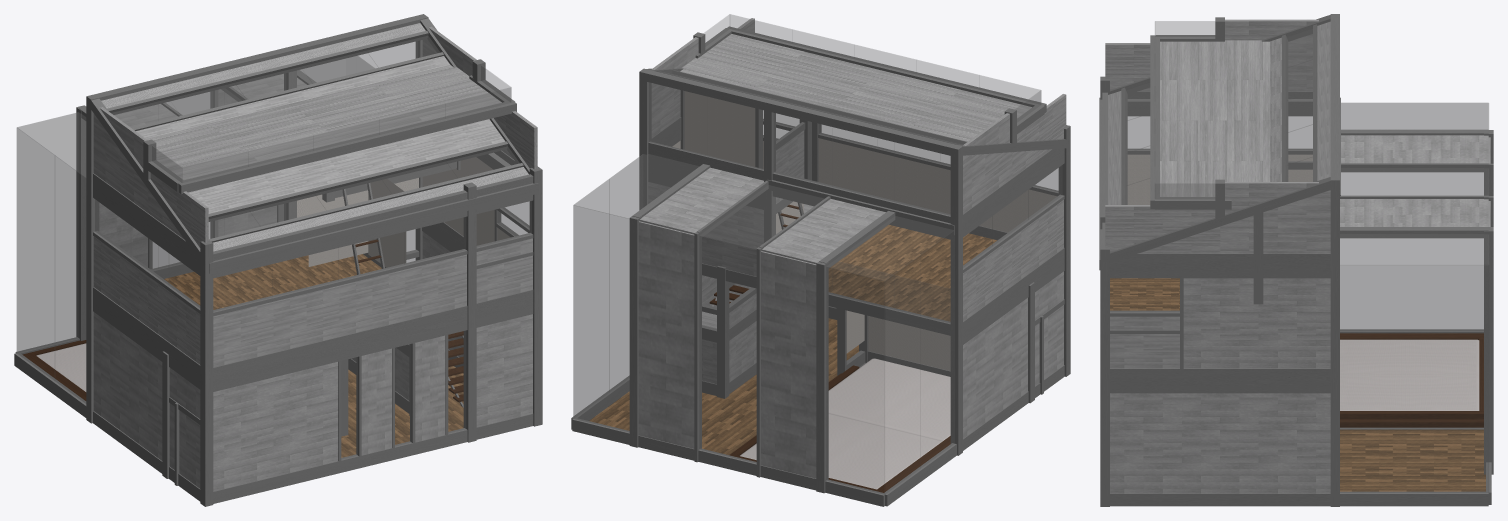
3 views of the same model, side by side, from view 1: azimuth 30°, elevation 25°; view 2: azimuth 150°, elevation 25°; view 3: azimuth 270°, elevation 25° (orthographic). The views are drawn at different scales.
Parts seen in each view (by area): view 1: 2f, 1f, pillar, stairwell, 3f, roof_floor, roof_top_1, roof, 1f_grass, roof_top_2, roof_top_3, roof_hasira_1 (+12 smaller); view 2: stairwell, 2f, pillar, 3f, 1f, roof_floor, bed_cushion (2), bed_cushion (1), roof, Quad, roof_hasira_2, 1f_wall_25 (1) (+1 smaller); view 3: stairwell, 1f, 2f, pillar, 3f, roof_floor, bed_cushion (1), Quad, roof_top_2, roof, roof_top_1, roof_top_grass_2 (+8 smaller).
Part boxes in pixels (bbox=[...]): 2f: bbox=[93, 152, 538, 391]; 1f: bbox=[14, 232, 533, 503]; pillar: bbox=[76, 14, 542, 506]; stairwell: bbox=[16, 56, 414, 403]; 3f: bbox=[93, 26, 537, 278]; roof_floor: bbox=[146, 64, 501, 180]; roof_top_1: bbox=[136, 56, 505, 213]; roof: bbox=[152, 65, 511, 182]; 1f_grass: bbox=[341, 331, 465, 458]; roof_top_2: bbox=[101, 23, 425, 108]; roof_top_3: bbox=[213, 167, 528, 251]; roof_hasira_1: bbox=[107, 30, 428, 114]; stairwell: bbox=[573, 154, 954, 494]; 2f: bbox=[648, 110, 1064, 344]; pillar: bbox=[629, 26, 1070, 493]; 3f: bbox=[648, 18, 1066, 239]; 1f: bbox=[571, 271, 1064, 506]; roof_floor: bbox=[680, 34, 1031, 141]; bed_cushion (2): bbox=[828, 358, 950, 441]; bed_cushion (1): bbox=[740, 413, 942, 489]; roof: bbox=[704, 14, 1041, 121]; Quad: bbox=[589, 318, 858, 454]; roof_hasira_2: bbox=[672, 70, 967, 144]; 1f_wall_25 (1): bbox=[846, 311, 864, 353]; stairwell: bbox=[1340, 102, 1490, 492]; 1f: bbox=[1110, 329, 1491, 506]; 2f: bbox=[1099, 97, 1340, 393]; pillar: bbox=[1100, 14, 1493, 506]; 3f: bbox=[1102, 19, 1330, 278]; roof_floor: bbox=[1160, 40, 1269, 196]; bed_cushion (1): bbox=[1340, 339, 1479, 410]; Quad: bbox=[1340, 429, 1485, 491]; roof_top_2: bbox=[1317, 21, 1330, 180]; roof: bbox=[1154, 21, 1214, 198]; roof_top_1: bbox=[1270, 37, 1281, 181]; roof_top_grass_2: bbox=[1126, 59, 1312, 152].
Bounding box in the file's own units: 10.25 × 9.45 × 10.28.
Materials: 9 (8 with a texture image).
